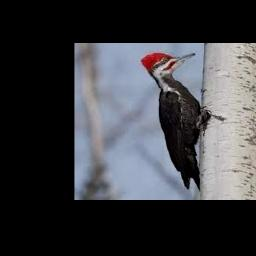Woodpecker: (141, 53, 208, 192)
